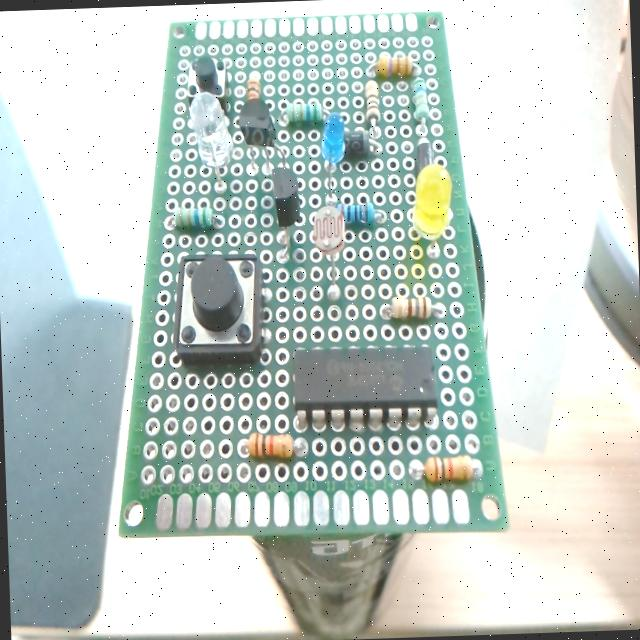IC: (281, 337, 444, 426)
cds: (312, 190, 350, 309)
led: (191, 82, 234, 190), (409, 161, 454, 261), (318, 103, 348, 190)
resistor: (365, 43, 434, 81), (326, 196, 390, 222), (422, 454, 472, 482), (406, 72, 434, 120), (246, 432, 294, 459), (364, 78, 382, 146), (388, 296, 432, 320), (282, 98, 322, 124), (172, 206, 212, 230), (242, 65, 266, 102)
switch: (172, 251, 268, 366), (180, 48, 229, 104)
transistor: (229, 93, 285, 170), (271, 166, 301, 262)
